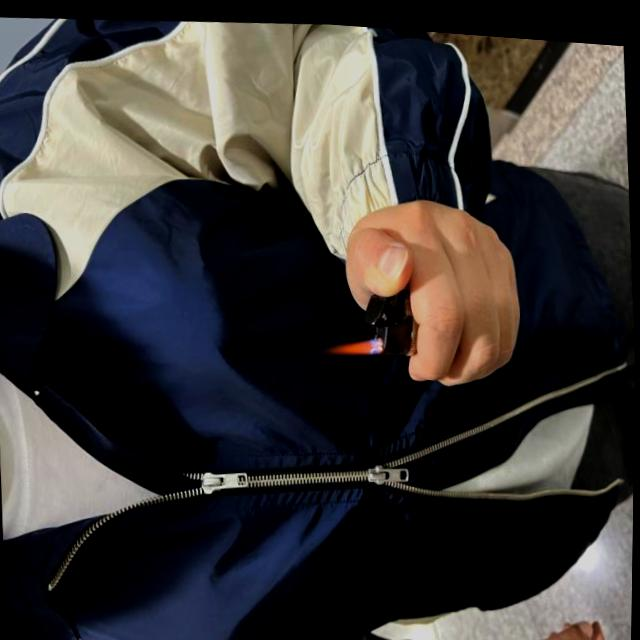helmet: (324, 328, 374, 352)
